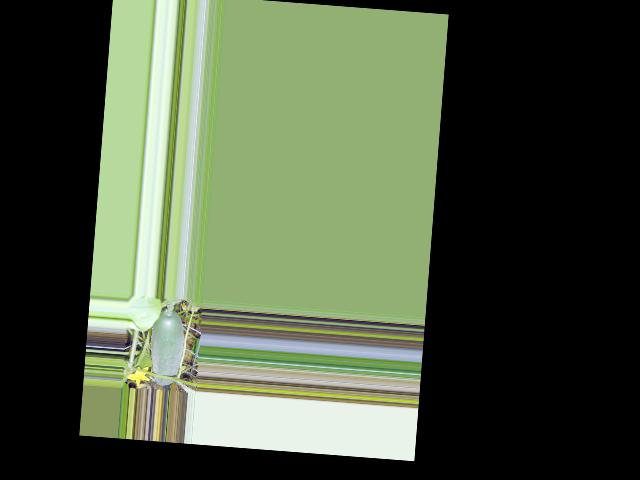cucumber: (148, 307, 186, 386)
